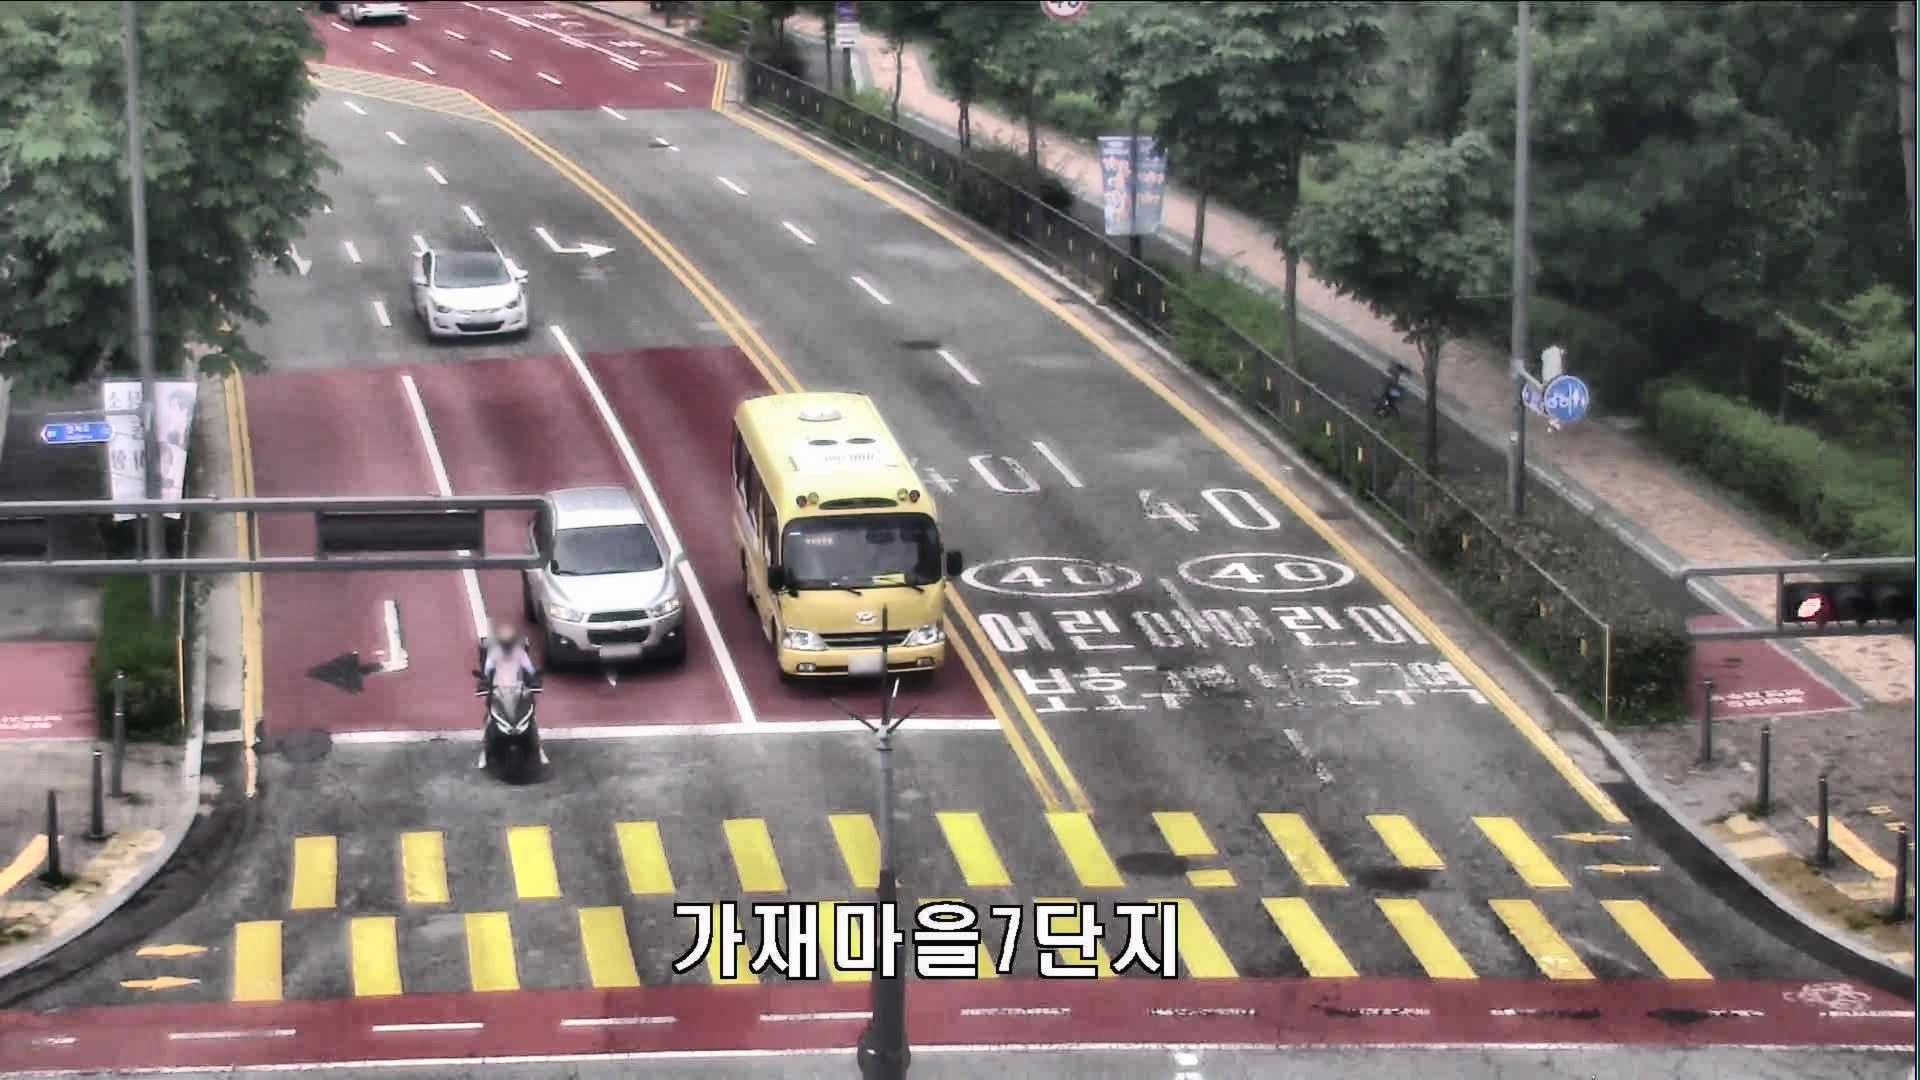sidewalk: (1540, 338, 1567, 435)
